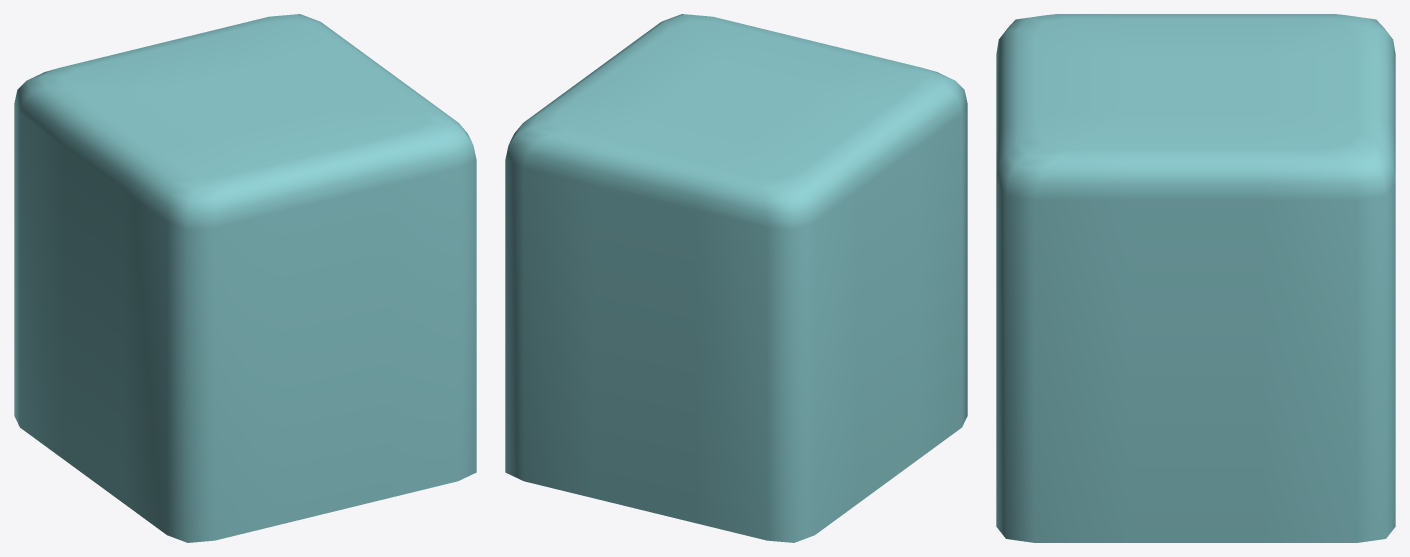
The model's file is mur_neige_01.fbx.
3 views of the same model, side by side, from view 1: azimuth 30°, elevation 25°; view 2: azimuth 150°, elevation 25°; view 3: azimuth 270°, elevation 25° (orthographic). The views are drawn at different scales.
Parts seen in each view (by area): view 1: Box005; view 2: Box005; view 3: Box005.
Part boxes in pixels (<box>): Box005: <box>14,14,476,542</box>; Box005: <box>505,14,967,542</box>; Box005: <box>996,14,1395,542</box>.
Bounding box in the file's own units: 541 × 586 × 561.
